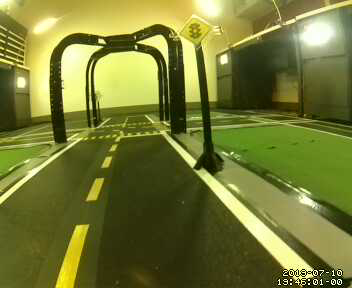Traffic light sign: (182, 14, 212, 47)
